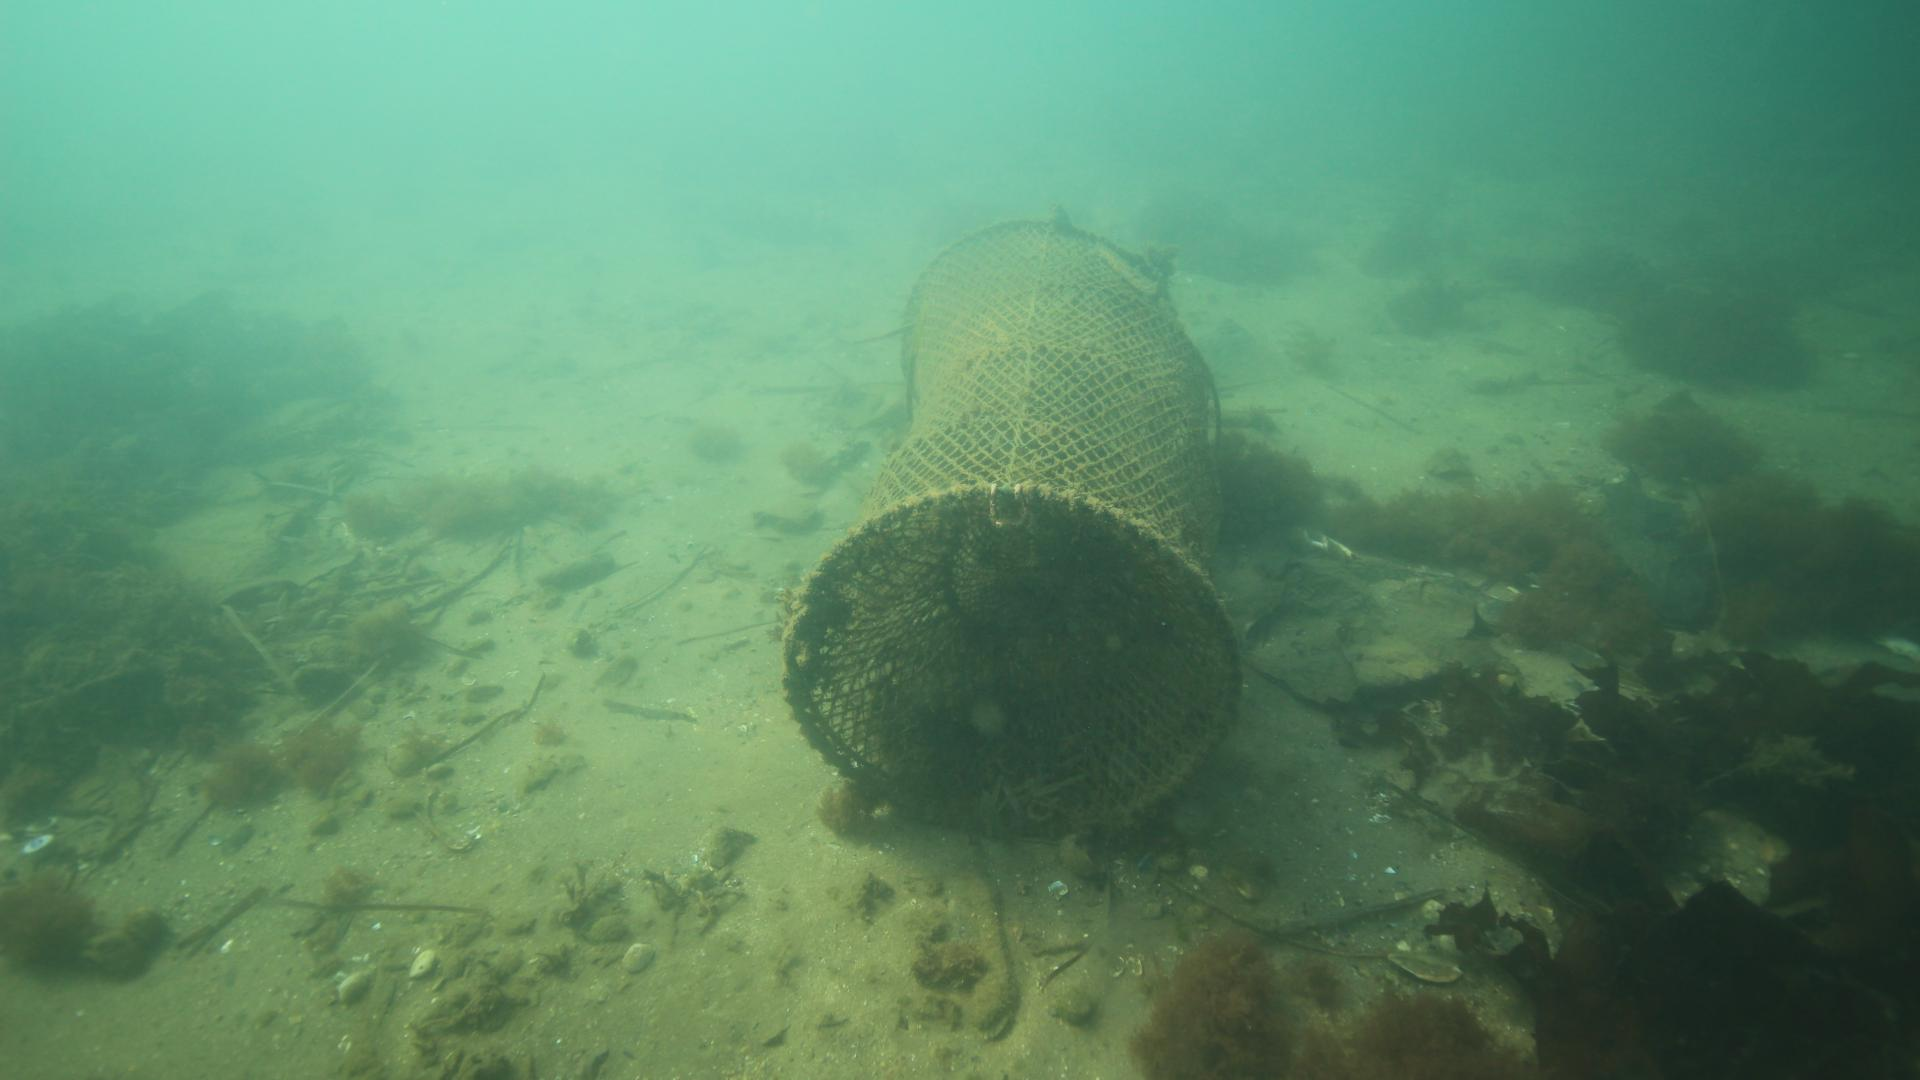spring fish trap: (781, 215, 1245, 839)
